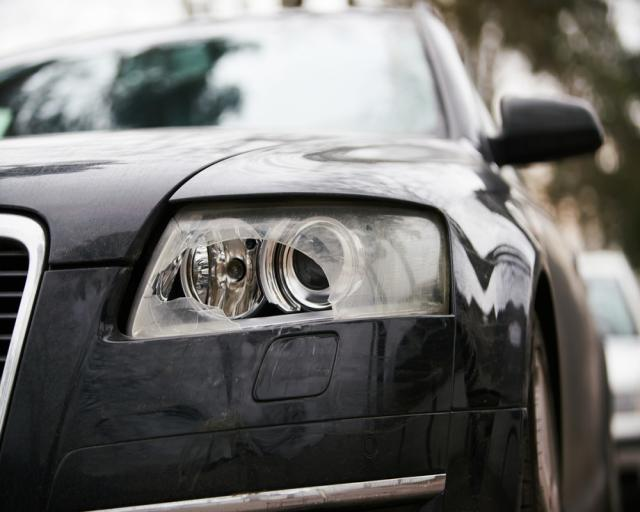lamp broken: (127, 201, 450, 336)
